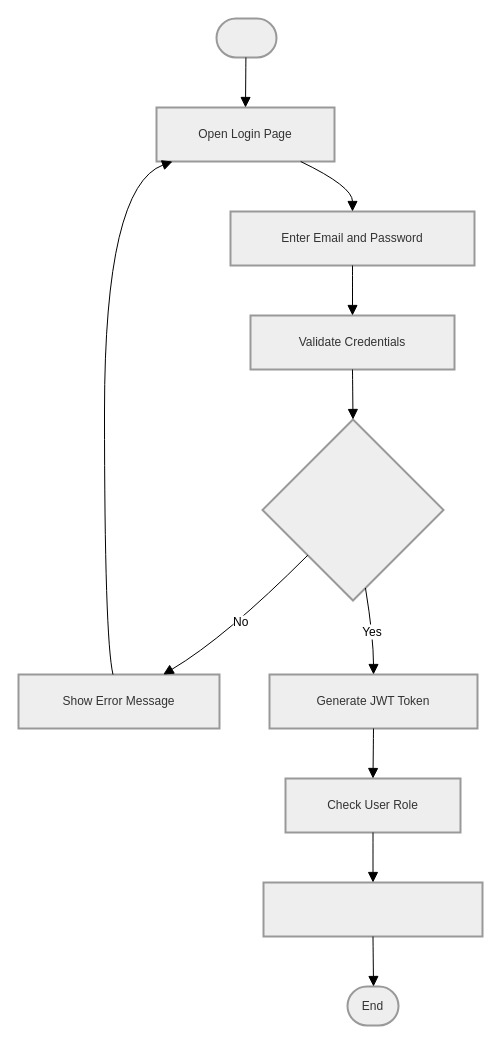
This 500x1043 diagram has some shape labels left out. Each missing label, with the centre of its shape:
"Credentials Valid?" goes at (352,509).
"Redirect to Dashboard" goes at (372,909).
"Start" goes at (246,37).
